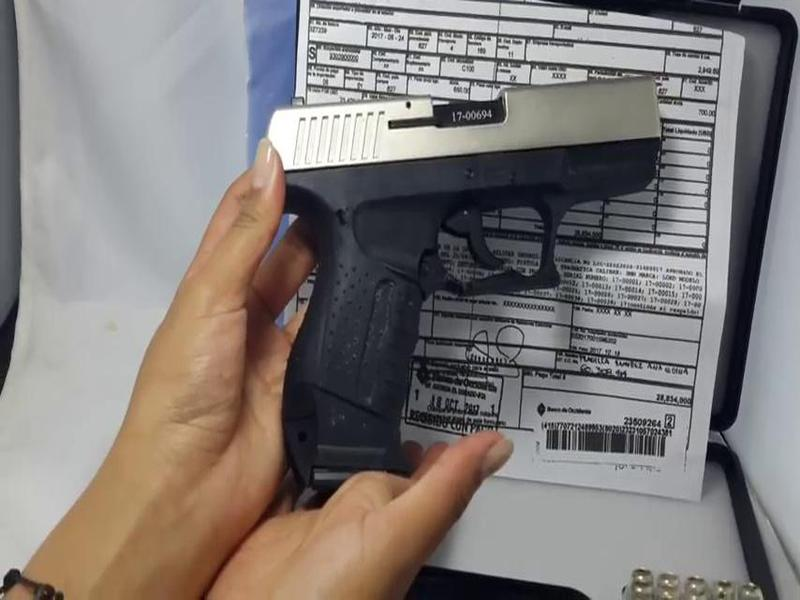Pistola: (237, 35, 677, 489)
